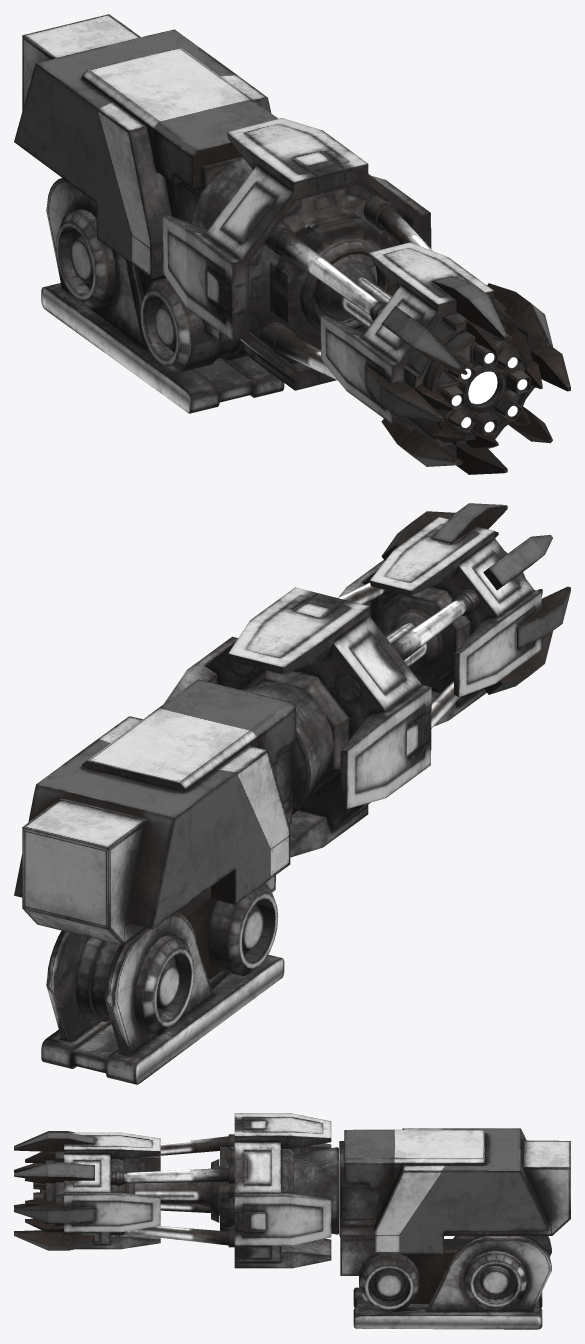
File: The Belt mining laser.fbx
3 views of the same model, one above another, from view 1: azimuth 30°, elevation 25°; view 2: azimuth 150°, elevation 25°; view 3: azimuth 270°, elevation 25° (orthographic). The views are drawn at different scales.
Visible parts, largest first — view 1: Drill_Main_Shaft, Drill_Body, Weapon_Mining_Laser, Drill_End, Mechanical_Arm; view 2: Drill_Main_Shaft, Drill_Body, Weapon_Mining_Laser, Mechanical_Arm; view 3: Drill_Main_Shaft, Drill_Body, Weapon_Mining_Laser, Mechanical_Arm, Drill_End.
Part boxes in pixels (box(x1,y1,x2,y2)): Drill_Main_Shaft: box(162, 118, 570, 474); Drill_Body: box(14, 14, 278, 343); Weapon_Mining_Laser: box(41, 178, 284, 413); Drill_End: box(404, 313, 542, 448); Mechanical_Arm: box(139, 270, 248, 373); Drill_Main_Shaft: box(164, 503, 570, 857); Drill_Body: box(14, 679, 334, 945); Weapon_Mining_Laser: box(41, 912, 284, 1084); Mechanical_Arm: box(177, 883, 278, 979); Drill_Main_Shaft: box(14, 1113, 331, 1268); Drill_Body: box(293, 1128, 570, 1275); Weapon_Mining_Laser: box(353, 1236, 551, 1329); Mechanical_Arm: box(359, 1239, 472, 1312); Drill_End: box(25, 1151, 63, 1232).
Bounding box in the file's own units: 226 × 325 × 862.
Materials: 2 (2 with a texture image).
